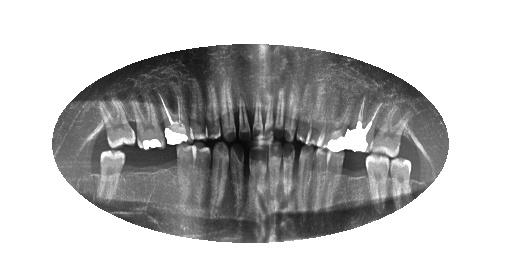i10decay: (225, 141, 249, 212)
i11healthy: (206, 137, 231, 218)
i12healthy: (189, 139, 213, 219)
i13healthy: (172, 142, 198, 207)
i14loss: (145, 147, 175, 213)
i15loss: (118, 149, 147, 203)
i16healthy: (94, 148, 128, 204)
i1healthy: (388, 153, 416, 205)
i2healthy: (363, 152, 395, 210)
i3healthy: (339, 153, 368, 210)
i4healthy: (322, 148, 345, 211)
i5healthy: (311, 145, 328, 209)
i6healthy: (294, 145, 318, 212)
i7decay: (280, 140, 295, 208)
i8decay: (263, 143, 282, 209)
i9decay: (245, 144, 269, 205)
u10decay: (231, 89, 254, 144)
u11decay: (215, 74, 240, 140)
u12healthy: (201, 78, 225, 141)
u13healthy: (184, 74, 209, 145)
u14healthy: (154, 81, 194, 148)
u15healthy: (127, 88, 169, 152)
u16healthy: (95, 97, 139, 149)
u1healthy: (371, 97, 414, 157)
u2healthy: (345, 91, 388, 156)
u3healthy: (326, 82, 352, 152)
u4healthy: (308, 79, 331, 148)
u5healthy: (294, 74, 316, 147)
u6decay: (281, 75, 302, 145)
u7decay: (270, 83, 289, 140)
u8decay: (264, 89, 277, 140)
u9decay: (250, 89, 265, 139)
